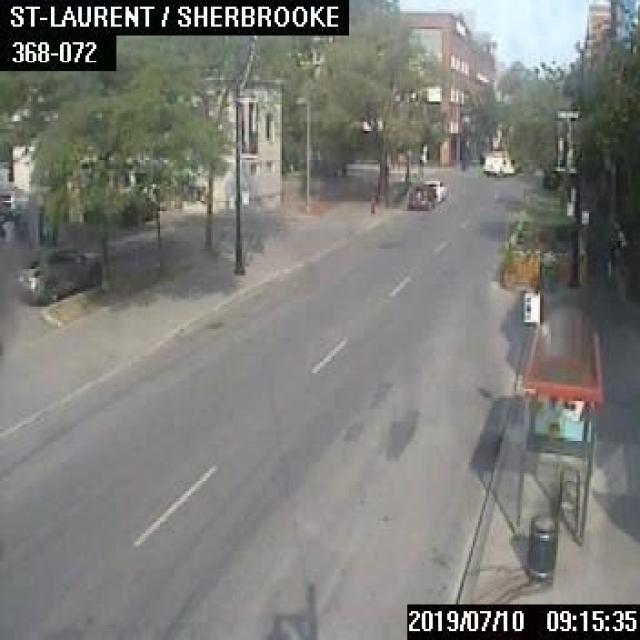vehicle: (12, 248, 100, 304), (405, 184, 435, 208), (482, 151, 512, 173), (422, 177, 445, 201)
